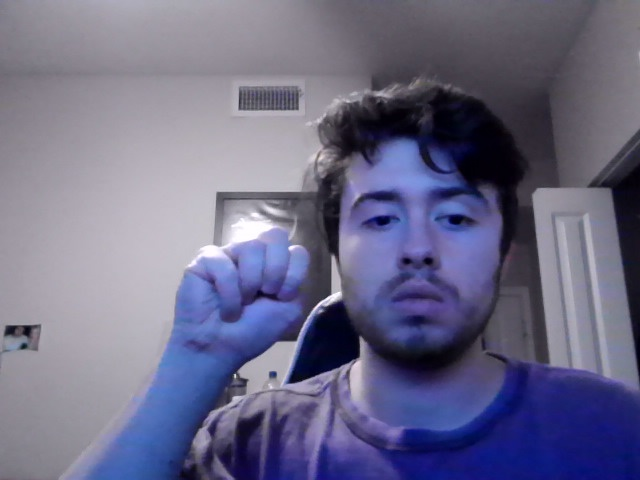m: (171, 227, 312, 379)
